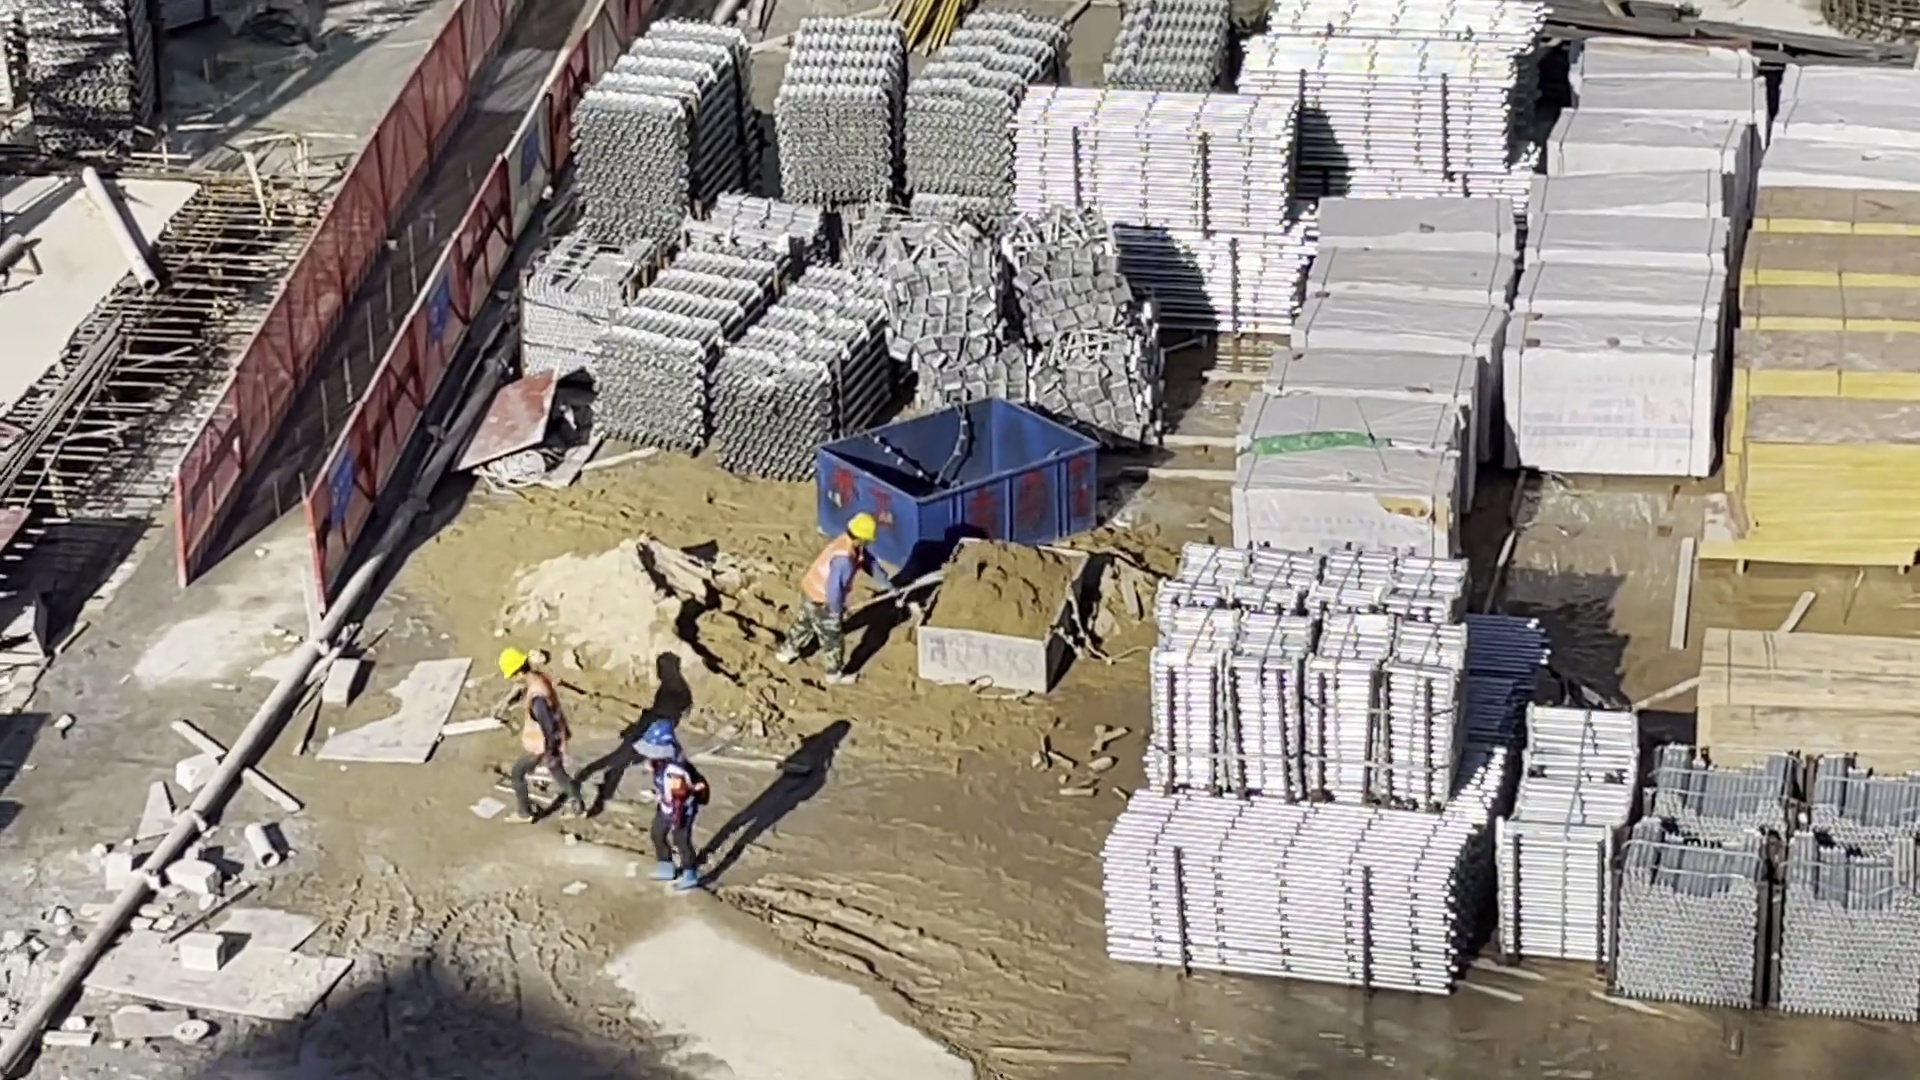board: (1735, 191, 1920, 572), (1697, 622, 1920, 759)
fence: (179, 6, 617, 554)
helmet: (499, 650, 524, 681), (849, 516, 875, 542), (646, 722, 671, 746)
hopper: (816, 399, 1094, 573), (919, 541, 1088, 693)
person: (493, 653, 585, 824), (786, 516, 874, 680), (639, 724, 712, 891)
scaffold: (1108, 768, 1482, 996), (1617, 749, 1917, 1027), (1162, 547, 1466, 804), (1009, 83, 1301, 331), (615, 247, 888, 473), (774, 15, 1059, 207), (1240, 4, 1538, 185), (573, 19, 755, 223), (1504, 700, 1631, 958), (17, 1, 156, 149), (1108, 1, 1235, 103)
slogan: (325, 441, 354, 527), (428, 276, 448, 347)
vest: (517, 674, 571, 751), (800, 543, 852, 601)
